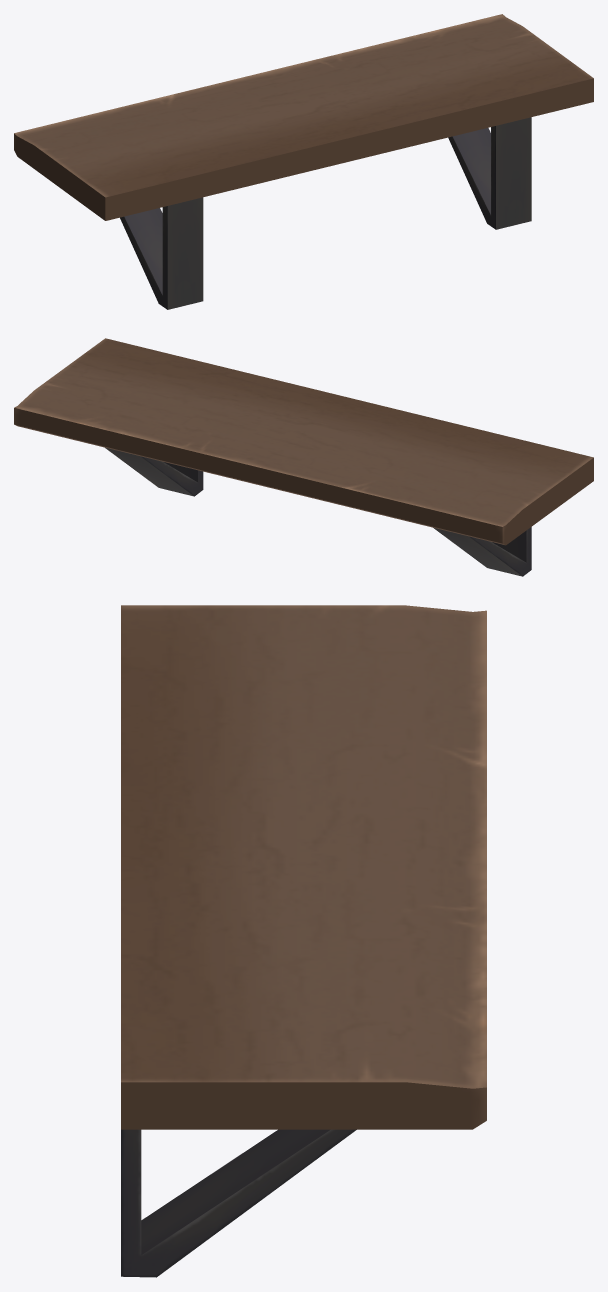
Rendered from Prop_Shelf.fbx.
3 renders of one model, top to bottom at view 1: azimuth 30°, elevation 25°; view 2: azimuth 150°, elevation 25°; view 3: azimuth 270°, elevation 25°, orthographic. The views are drawn at different scales.
Parts seen in each view (by area): view 1: wall-mounted shelf; view 2: wall-mounted shelf; view 3: wall-mounted shelf.
Boxes of the visible parts, bbox=[...] form: wall-mounted shelf: bbox=[14, 14, 593, 309]; wall-mounted shelf: bbox=[14, 338, 593, 576]; wall-mounted shelf: bbox=[121, 605, 486, 1277].
Size of the model in its own units: 289 by 72.39 by 93.77.
